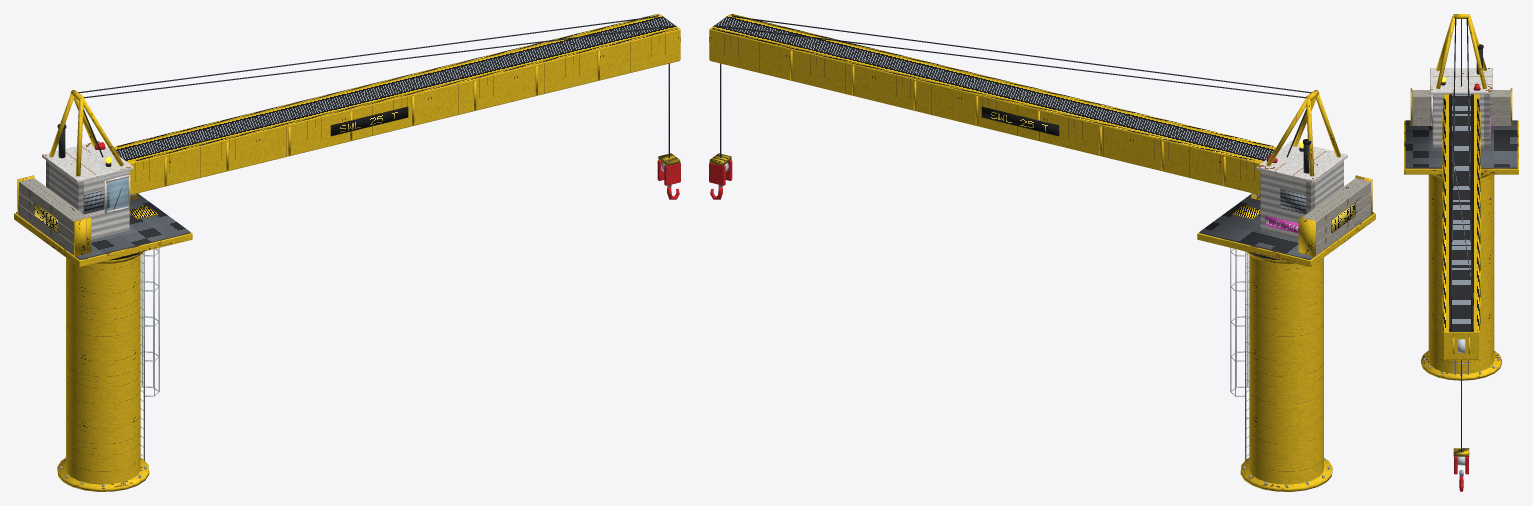
File: p_crane_short.glb
3 views of the same model, side by side, from view 1: azimuth 30°, elevation 25°; view 2: azimuth 150°, elevation 25°; view 3: azimuth 270°, elevation 25° (orthographic). The views are drawn at different scales.
Parts seen in each view (by area): view 1: p_crane_short_lod0; view 2: p_crane_short_lod0; view 3: p_crane_short_lod0.
Boxes of the visible parts, bbox=[...] form: p_crane_short_lod0: bbox=[14, 14, 680, 491]; p_crane_short_lod0: bbox=[709, 14, 1375, 491]; p_crane_short_lod0: bbox=[1404, 14, 1518, 491].
Size of what is drawn, in the model's own units: 24.57 by 14.3 by 4.4.
Materials: 4 (1 with a texture image).
